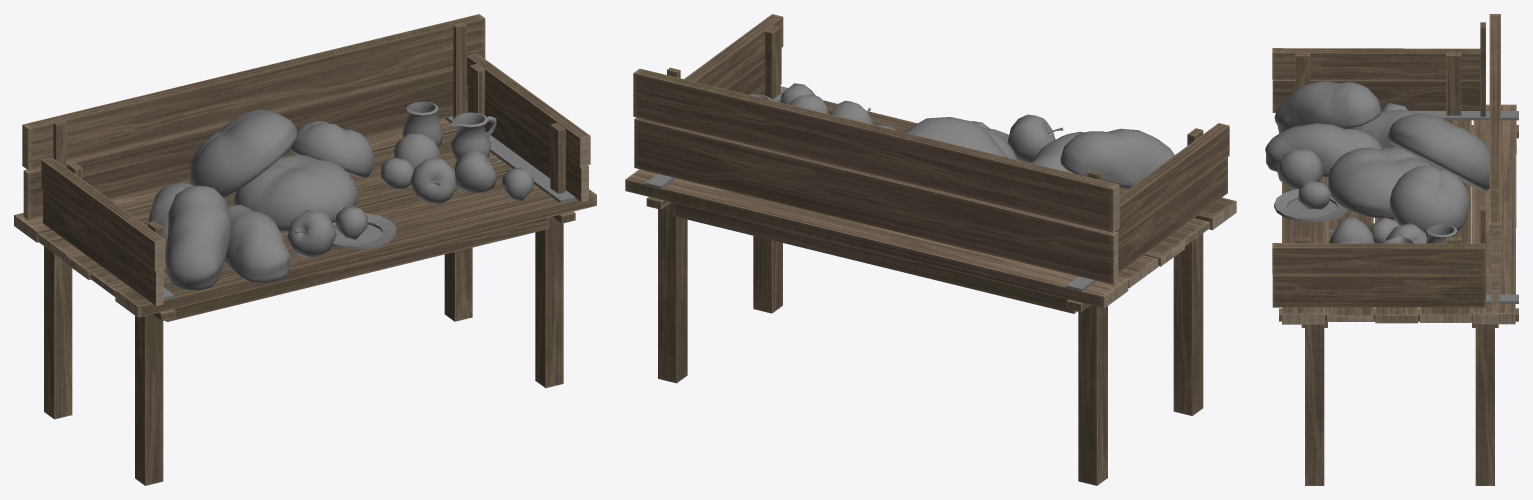
File: SM_table_food.fbx
3 views of the same model, side by side, from view 1: azimuth 30°, elevation 25°; view 2: azimuth 150°, elevation 25°; view 3: azimuth 270°, elevation 25° (orthographic). The views are drawn at different scales.
Parts seen in each view (by area): view 1: Object32491; view 2: Object32491; view 3: Object32491.
Boxes of the visible parts, <box> form: Object32491: <box>14,14,596,485</box>; Object32491: <box>625,14,1236,485</box>; Object32491: <box>1265,14,1518,485</box>.
Bounding box in the file's own units: 82.02 × 49.82 × 41.84.
